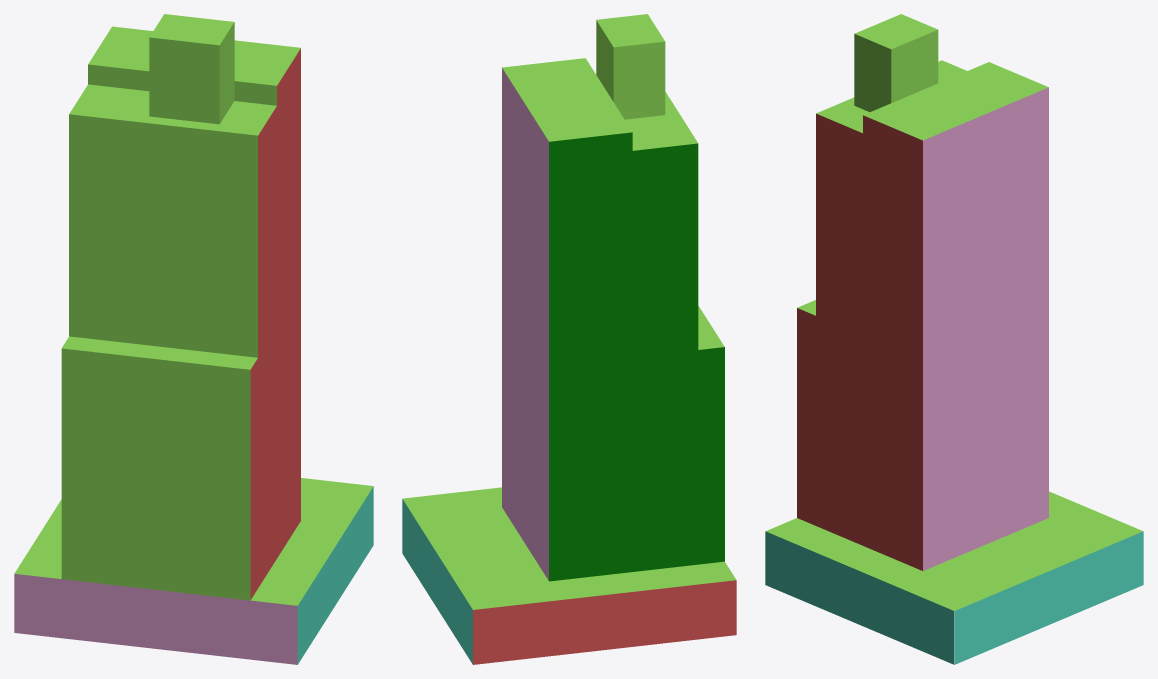
3 views of the same model, side by side, from view 1: azimuth 30°, elevation 25°; view 2: azimuth 150°, elevation 25°; view 3: azimuth 270°, elevation 25° (orthographic). The views are drawn at different scales.
Parts seen in each view (by area): view 1: Componente_5_001, Componente_2_002, Componente_6_001, Componente_4_002, Componente_8_001, Componente_9_001; view 2: Componente_2_001, Componente_6_001, Componente_3_001, Componente_7_001, Componente_8_001, Componente_4_001; view 3: Componente_3_001, Componente_2_002, Componente_6_001, Componente_9_001, Componente_4_001, Componente_8_001.
Part boxes in pixels (box(x1,y1,x2,y2)): Componente_5_001: box(61, 64, 276, 600); Componente_2_002: box(250, 48, 300, 599); Componente_6_001: box(14, 26, 373, 605); Componente_4_002: box(14, 574, 297, 664); Componente_8_001: box(149, 14, 234, 124); Componente_9_001: box(297, 486, 373, 664); Componente_2_001: box(549, 132, 724, 581); Componente_6_001: box(403, 58, 736, 609); Componente_3_001: box(502, 68, 548, 580); Componente_7_001: box(473, 580, 736, 664); Componente_8_001: box(596, 14, 665, 119); Componente_4_001: box(402, 499, 472, 664); Componente_3_001: box(923, 87, 1048, 570); Componente_2_002: box(797, 113, 922, 570); Componente_6_001: box(766, 60, 1142, 610); Componente_9_001: box(765, 531, 954, 664); Componente_4_001: box(954, 531, 1143, 664); Componente_8_001: box(854, 14, 938, 111).
Bounding box in the file's own units: 38184 × 60000 × 38184.
